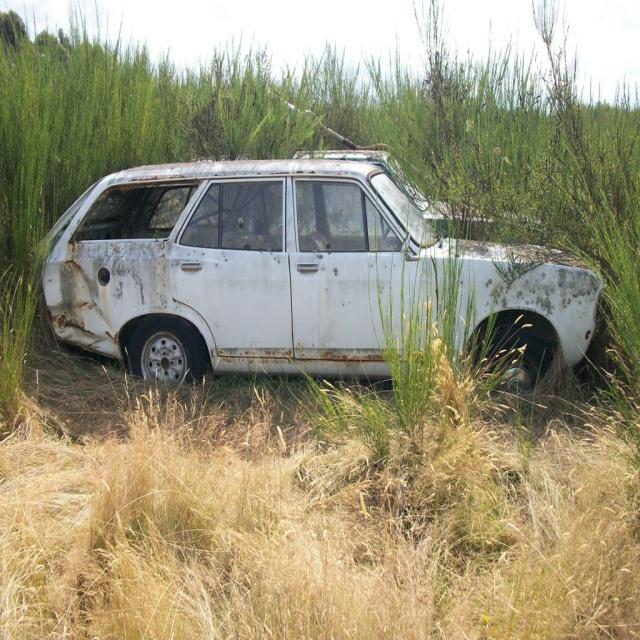car: (33, 156, 601, 413)
